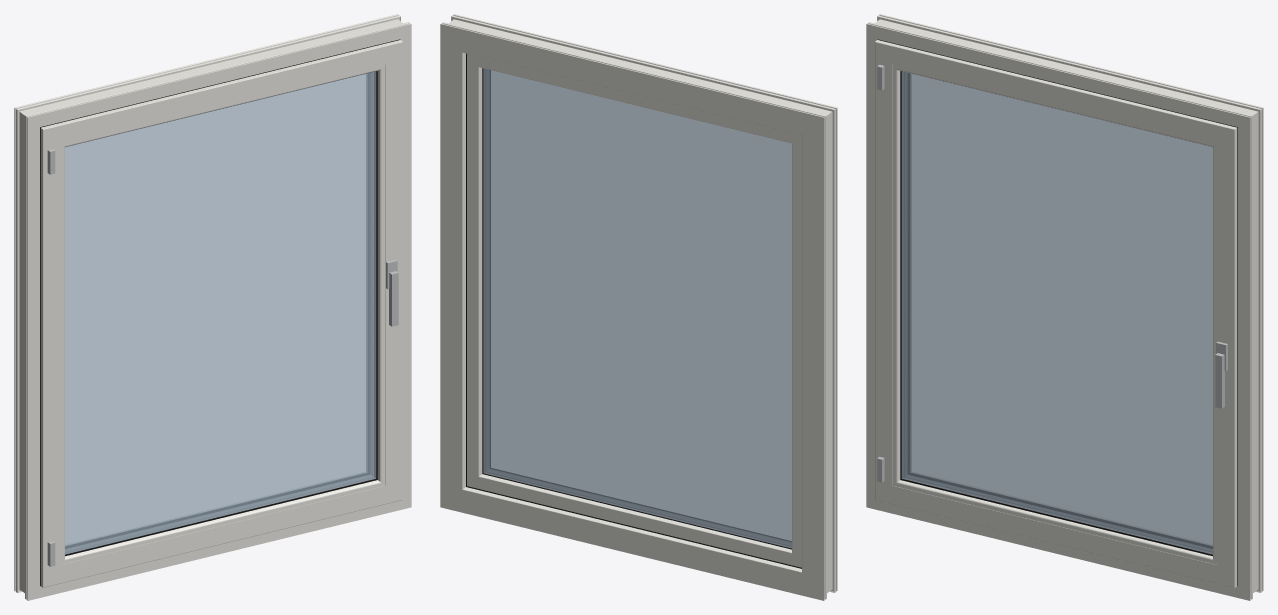
The model's file is series-76-md.glb.
The picture shows the model from 3 angles, left to right: view 1: azimuth 30°, elevation 25°; view 2: azimuth 150°, elevation 25°; view 3: azimuth 330°, elevation 25°; orthographic projection.
Visible parts, largest first — view 1: Series 76 MD; view 2: Series 76 MD; view 3: Series 76 MD.
Part boxes in pixels (left/top/right/bottom): Series 76 MD: left=14, top=14, right=411, bottom=600; Series 76 MD: left=440, top=14, right=837, bottom=600; Series 76 MD: left=866, top=14, right=1263, bottom=600.
Size of the model in its own units: 1.23 by 1.48 by 0.1177.
